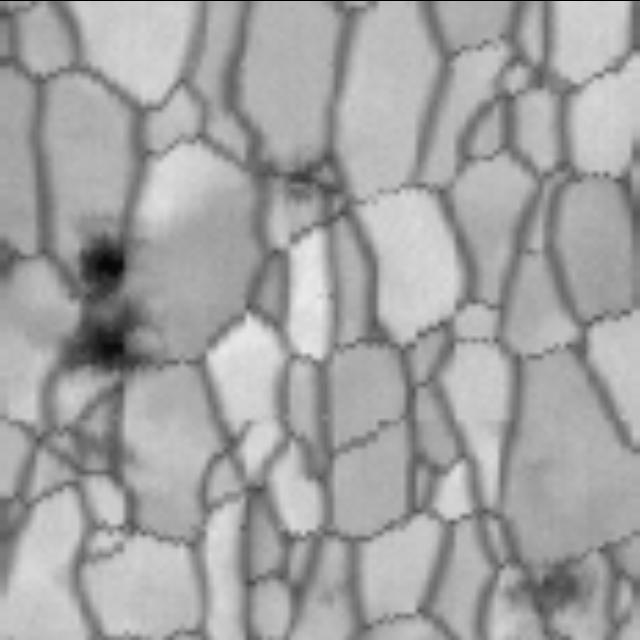good_void: (44, 175, 168, 404), (499, 533, 603, 626)
